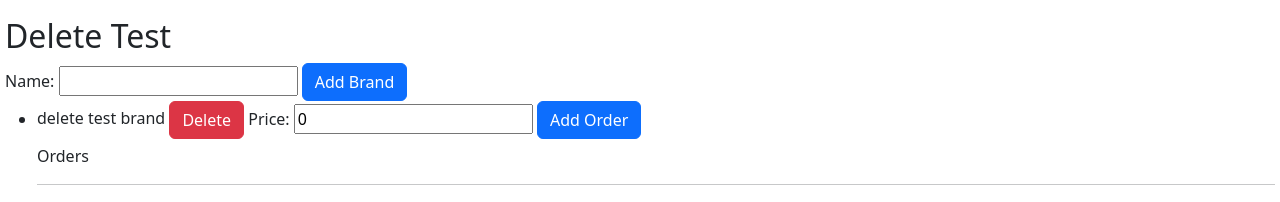
Scenario: Brand Delete
Check: the text "delete test brand" is shown, box top-left (37, 108), bottom-right (165, 130)
Click the button "Delete". click: x=207, y=120
box: top-left (169, 101), bottom-right (244, 139)
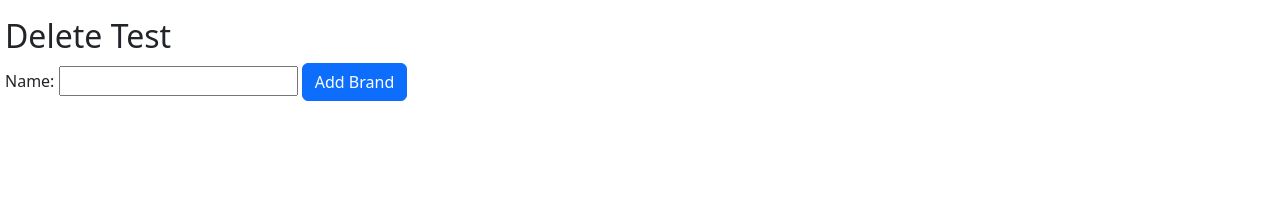
Check: the text "delete test brand" is gone
